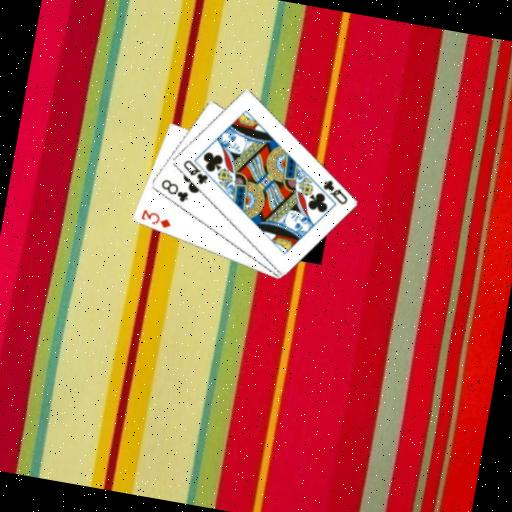3D: (136, 205, 174, 230)
8C: (156, 175, 192, 204)
QC: (176, 155, 212, 187), (316, 175, 352, 207)
